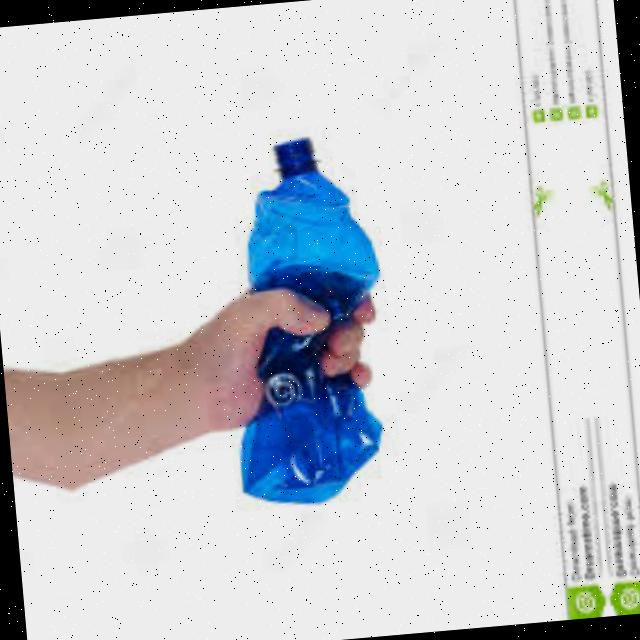Plastic: (205, 108, 432, 546)
